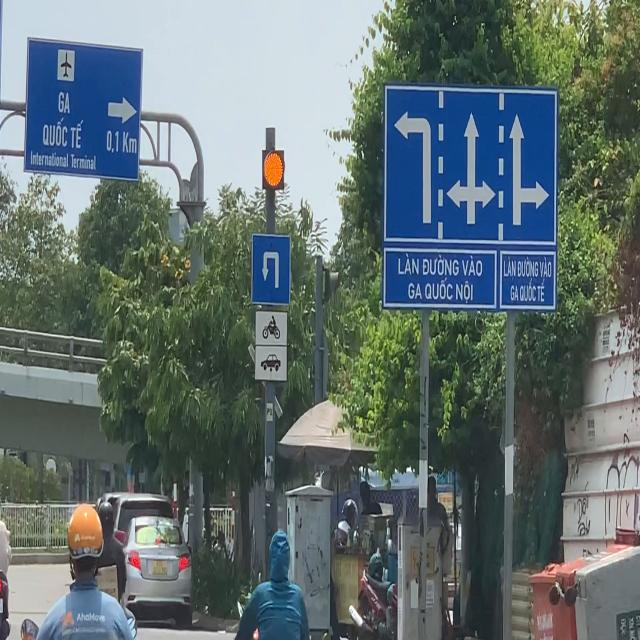Chi dan: (251, 232, 291, 306)
